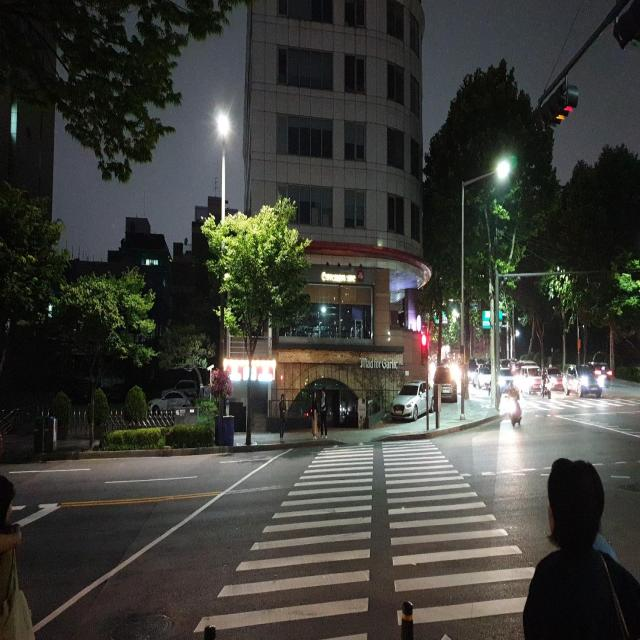빨간불: (420, 332, 428, 364)
횡단보도: (190, 438, 538, 640)
